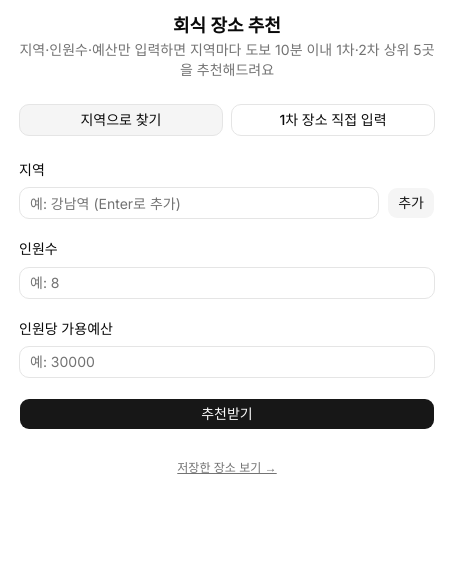
Test: RecommendForm › 1차 장소명을 비운 채 추천받기를 누르면 입력해주세요 안내가 표시되고 이동하지 않는다
Click the radio button labelled "1차 장소 직접 입력" at [333, 120], box x1=231 y1=104 x2=435 y2=136
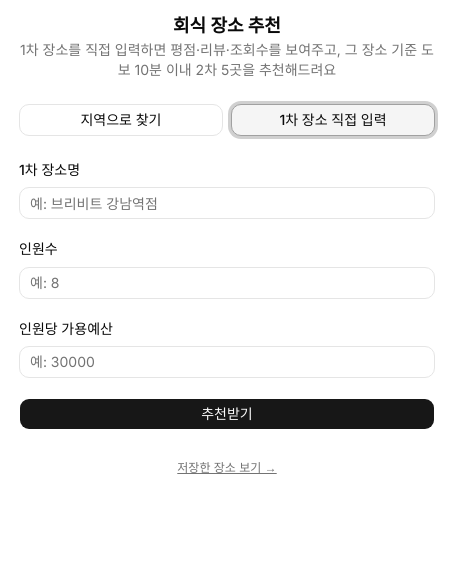
Click the button "추천받기" at [227, 414], box x1=19 y1=398 x2=435 y2=430
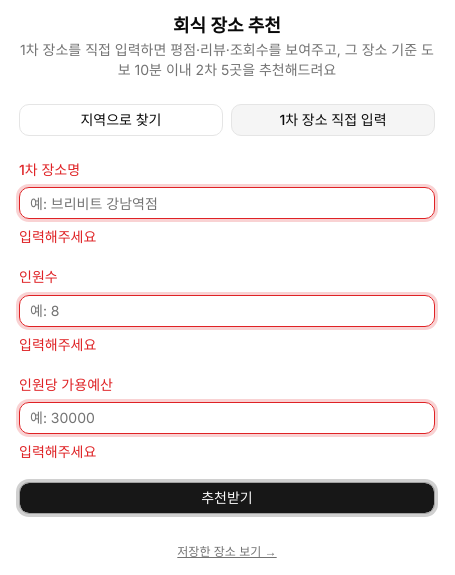
Now the text "입력해주세요" is shown 3 times, box x1=19 y1=228 x2=96 y2=245; x1=19 y1=336 x2=96 y2=352; x1=19 y1=443 x2=96 y2=460
